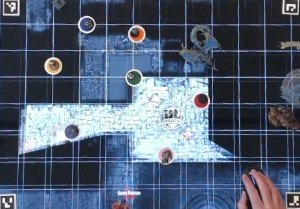blue: (75, 15, 95, 35)
green: (125, 66, 144, 87)
orange: (126, 25, 148, 42)
pink: (155, 144, 177, 166)
red: (193, 90, 211, 108)
violet: (62, 122, 81, 141)
yellow: (42, 55, 66, 75)
